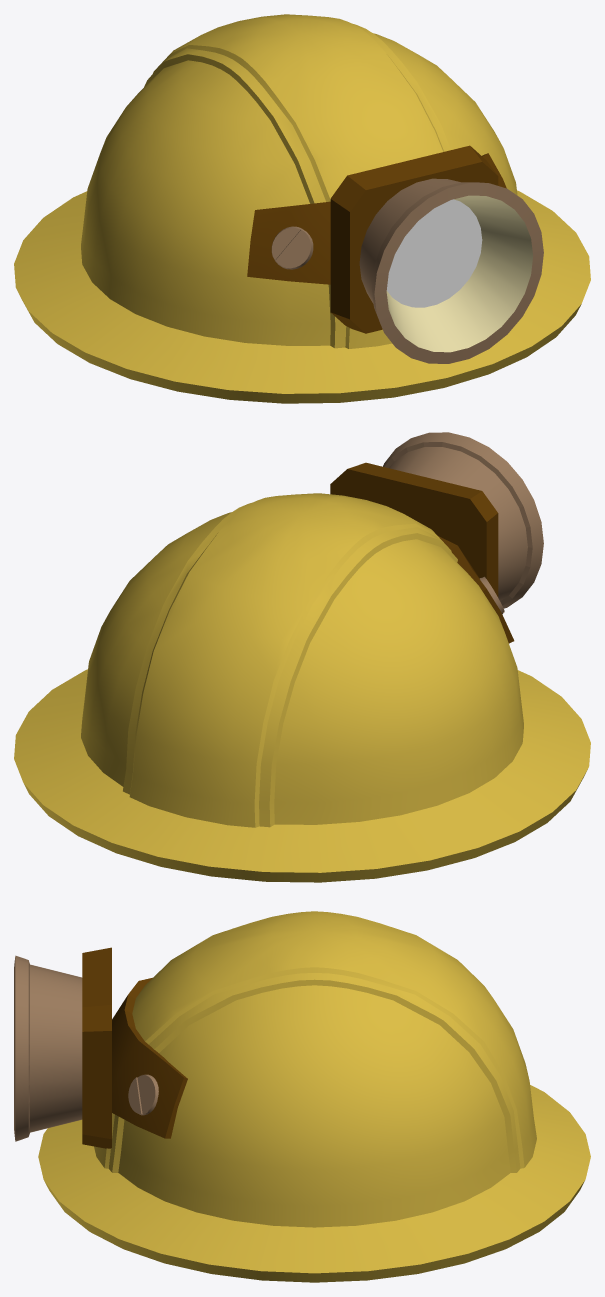
Rendered from MinerHat.fbx.
3 renders of one model, top to bottom at view 1: azimuth 30°, elevation 25°; view 2: azimuth 150°, elevation 25°; view 3: azimuth 270°, elevation 25°, orthographic. The views are drawn at different scales.
Visible parts, largest first — view 1: MinerHat; view 2: MinerHat; view 3: MinerHat.
Part boxes in pixels (left/top/right/bottom): MinerHat: left=14, top=14, right=590, bottom=403; MinerHat: left=14, top=432, right=590, bottom=882; MinerHat: left=14, top=911, right=590, bottom=1282.
Size of the model in its own units: 81.31 by 38.74 by 84.98.
